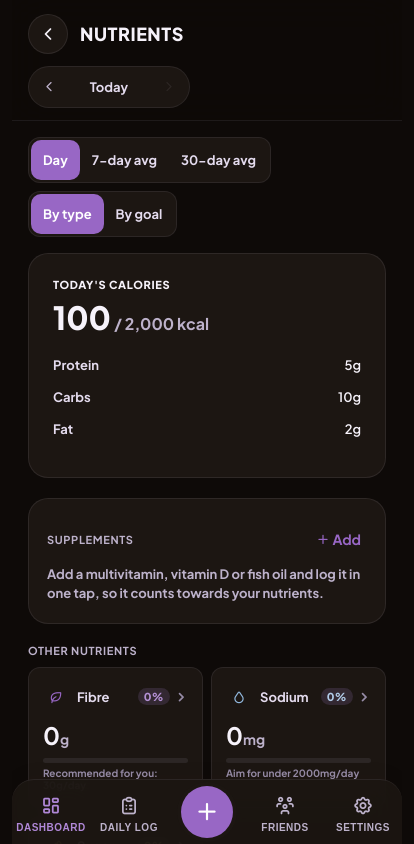
it: Nutrients — averages, goals and personal targets › groups by health goal with a one-line summary
Click the button "By goal" at x=139, y=214, box [104,194,174,234]
(page scrolled)
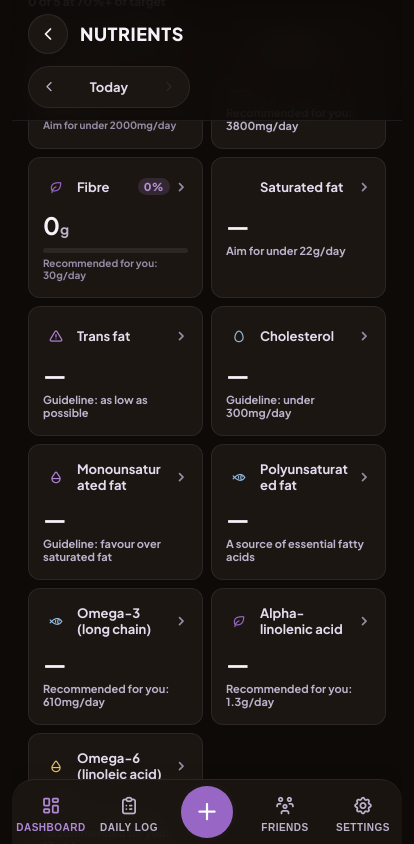
expect the element with test id "goal-heart" is shown: met
